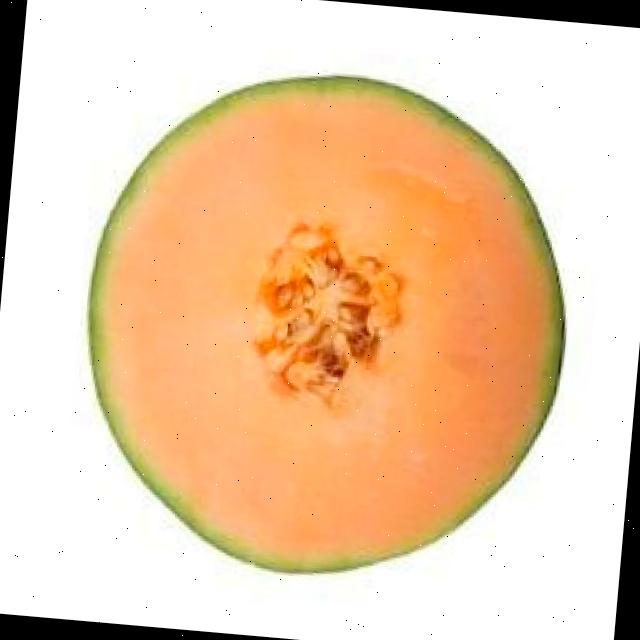Hami Melon: (62, 51, 586, 592)
